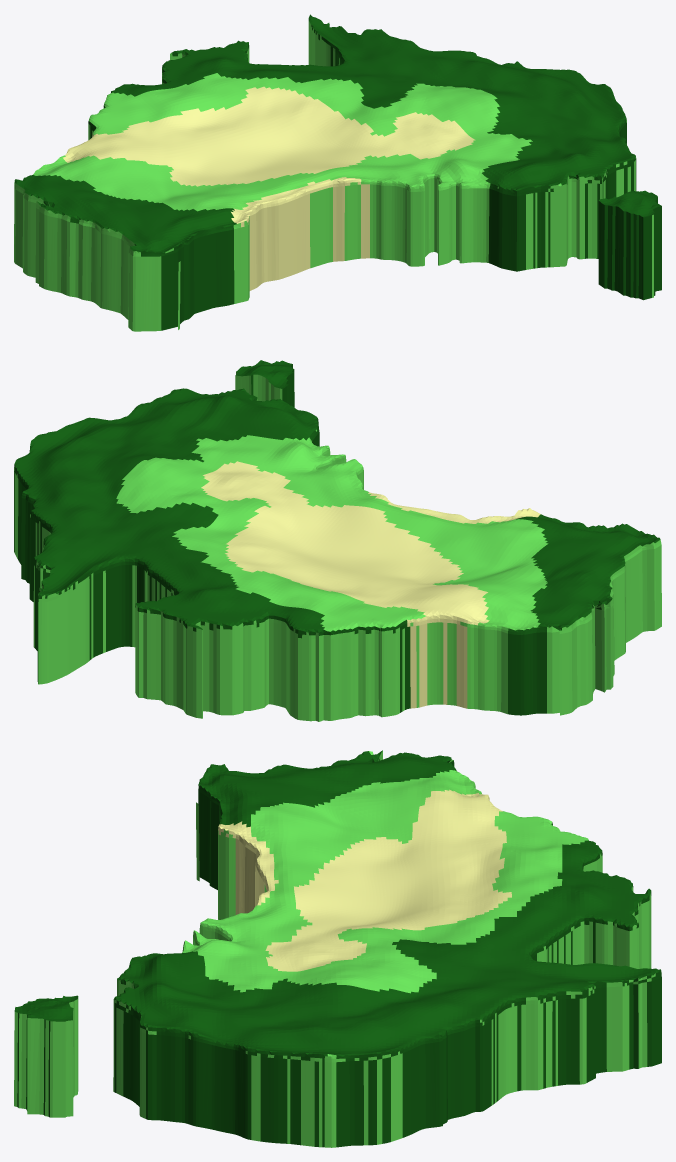
File: world_map_Australia.fbx
The picture shows the model from 3 angles, top to bottom: view 1: azimuth 30°, elevation 25°; view 2: azimuth 150°, elevation 25°; view 3: azimuth 270°, elevation 25°; orthographic projection. The views are drawn at different scales.
Visible parts, largest first — view 1: Australia; view 2: Australia; view 3: Australia.
Boxes of the visible parts, left/top/right/bottom form: Australia: left=14, top=14, right=661, bottom=331; Australia: left=14, top=360, right=661, bottom=721; Australia: left=14, top=750, right=661, bottom=1147.
Bounding box in the file's own units: 486 × 84.82 × 435.
